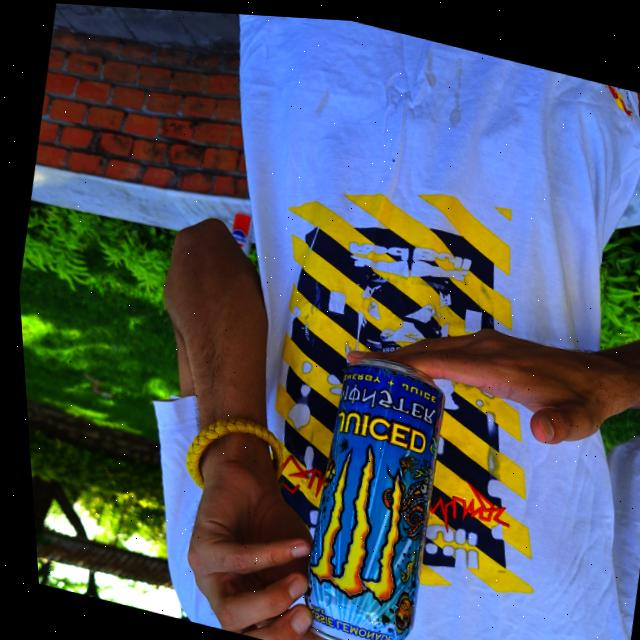Monster Aussie Lemonade: (269, 342, 469, 640)
